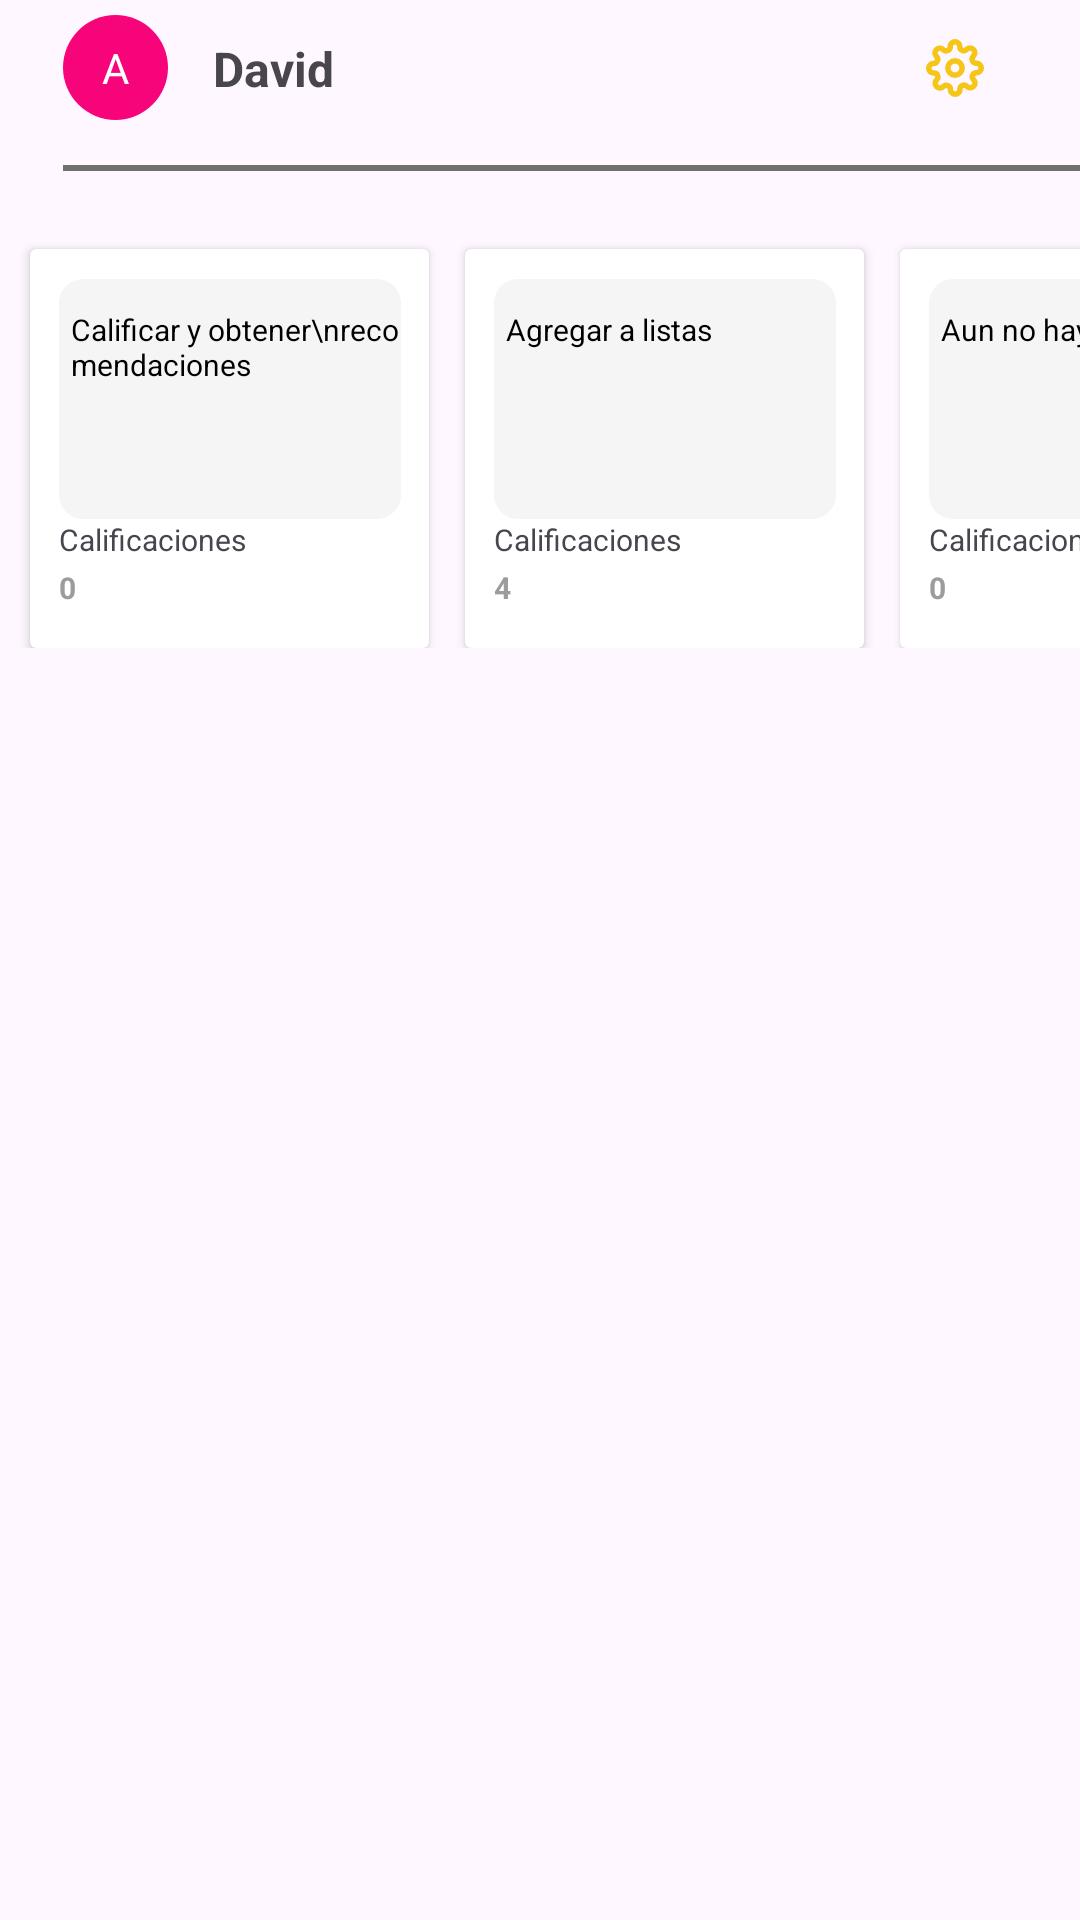

Named icons in this screenshot (1080px x 1920px) and their bounding boxes, (x1, y1, x2, y2):
feather settings: (926, 39, 984, 97)
